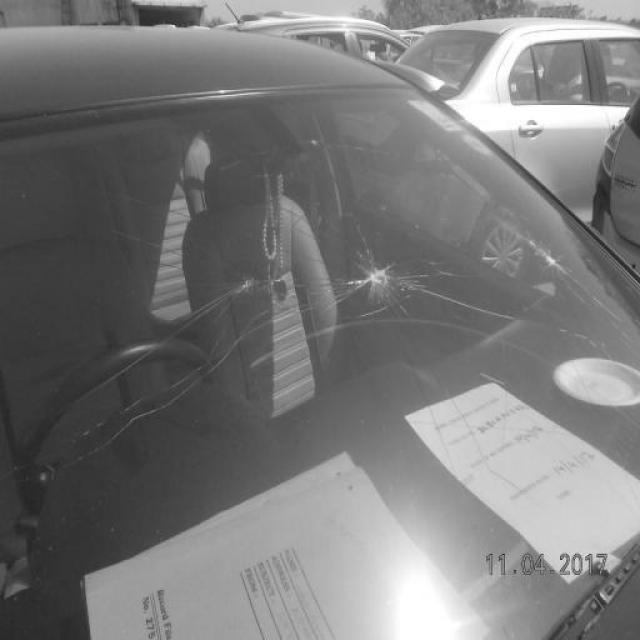crack: (328, 209, 429, 309), (172, 270, 274, 341), (520, 230, 580, 281)
